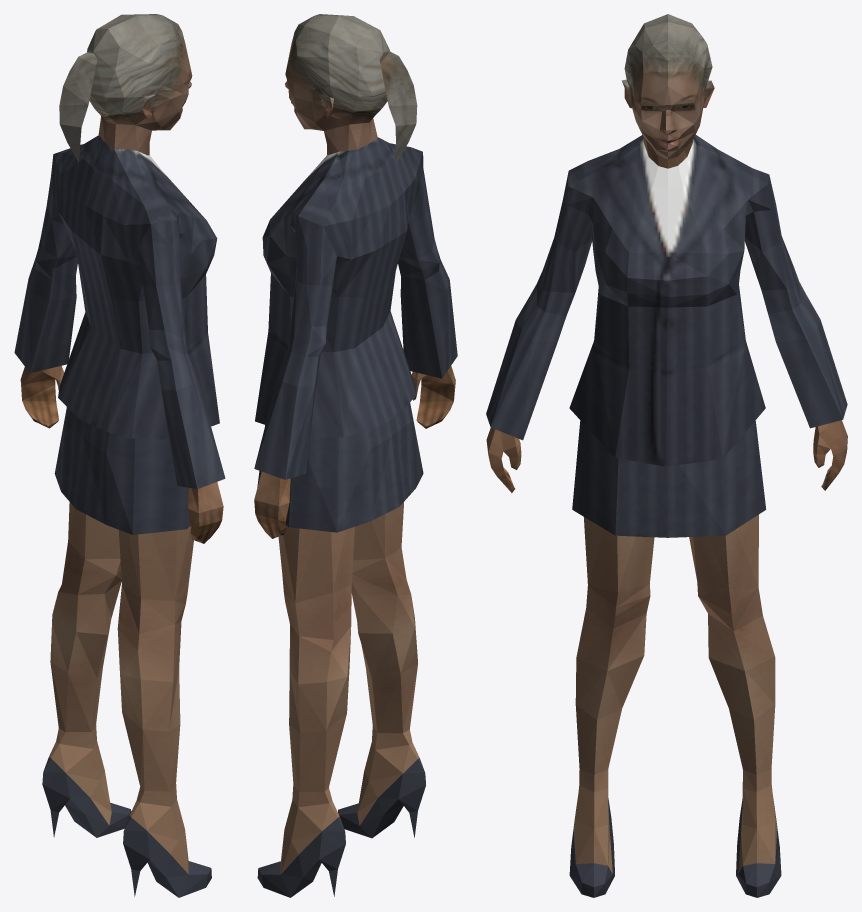
Rendered from wfybu.obj.
The picture shows the model from 3 angles, left to right: view 1: azimuth 30°, elevation 25°; view 2: azimuth 150°, elevation 25°; view 3: azimuth 270°, elevation 25°; orthographic projection. The views are drawn at different scales.
Visible parts, largest first — view 1: _Pelvis; view 2: _Pelvis; view 3: _Pelvis.
Part boxes in pixels (<box>): _Pelvis: <box>14,14,225,897</box>; _Pelvis: <box>254,14,457,897</box>; _Pelvis: <box>486,14,847,897</box>.
Bounding box in the file's own units: 0.324 × 1.8 × 0.6866.
1 material, 1 textured.
